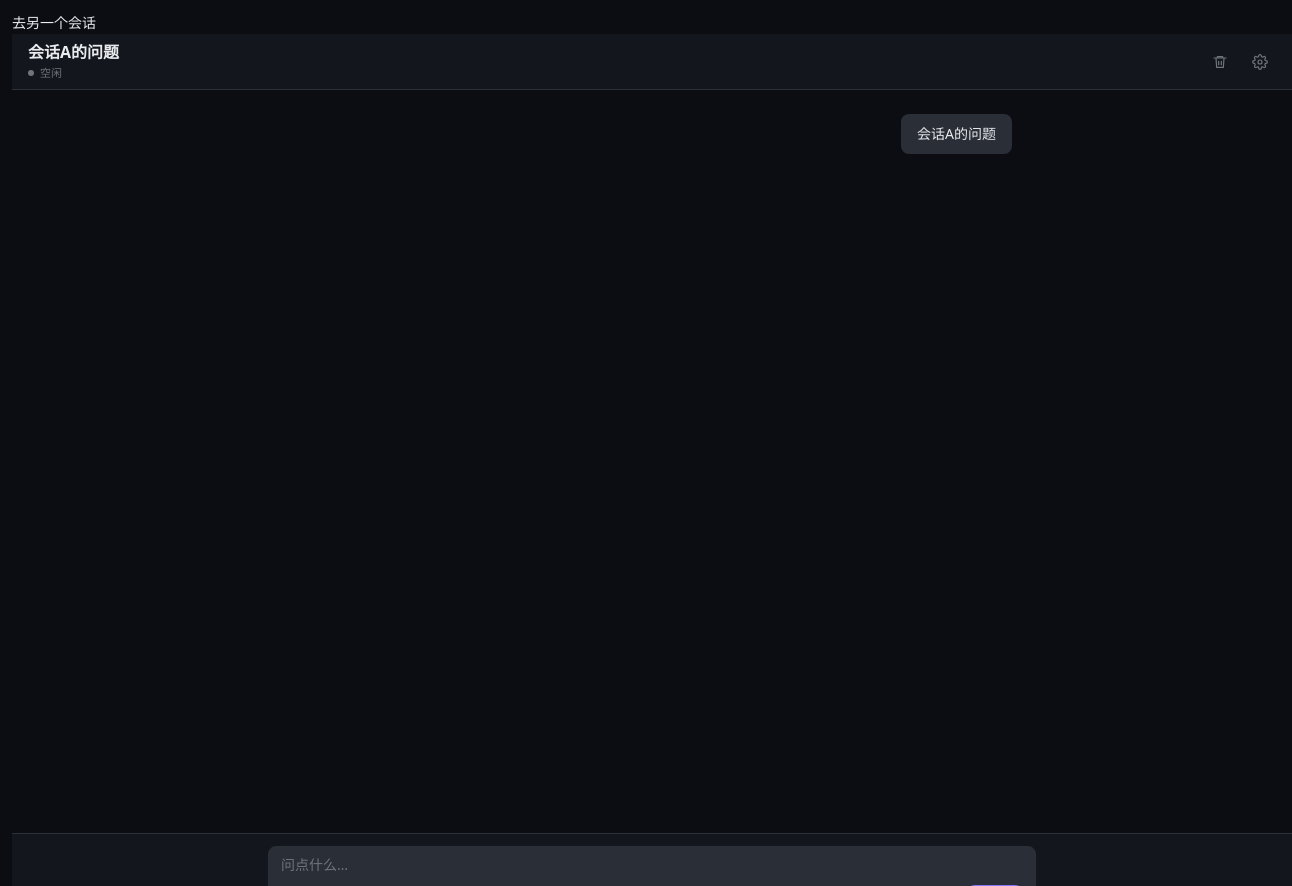
Scenario: ChatPage › 切换 session 参数时加载对应会话，且不把消息写进旧会话
Check: the 2nd text "会话A的问题" is shown, box [901, 114, 1012, 154]
Click the link "去另一个会话" at (54, 22), box [12, 13, 96, 32]
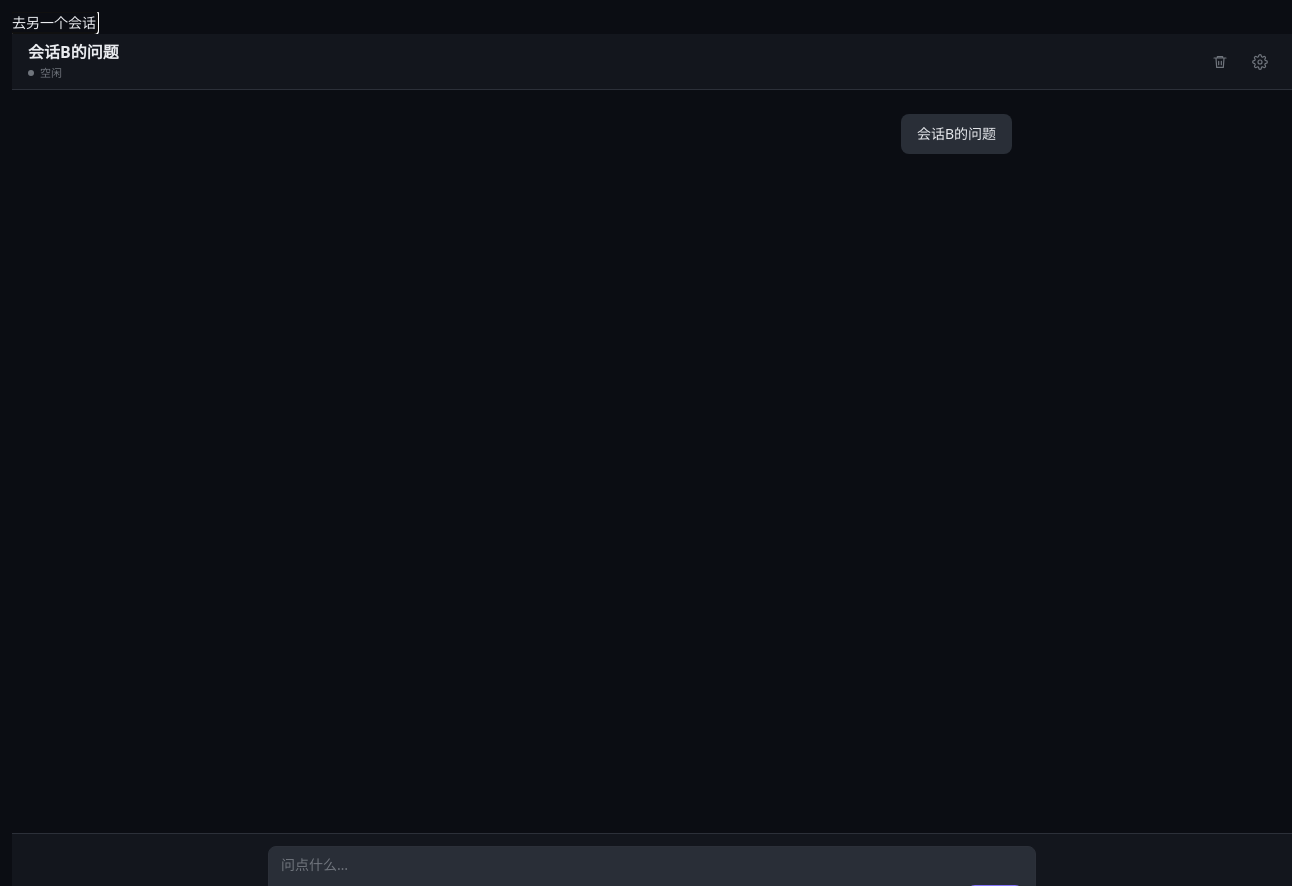
Check: the 2nd text "会话B的问题" is shown, box [901, 114, 1012, 154]
Check: the text "会话A的问题" is gone
